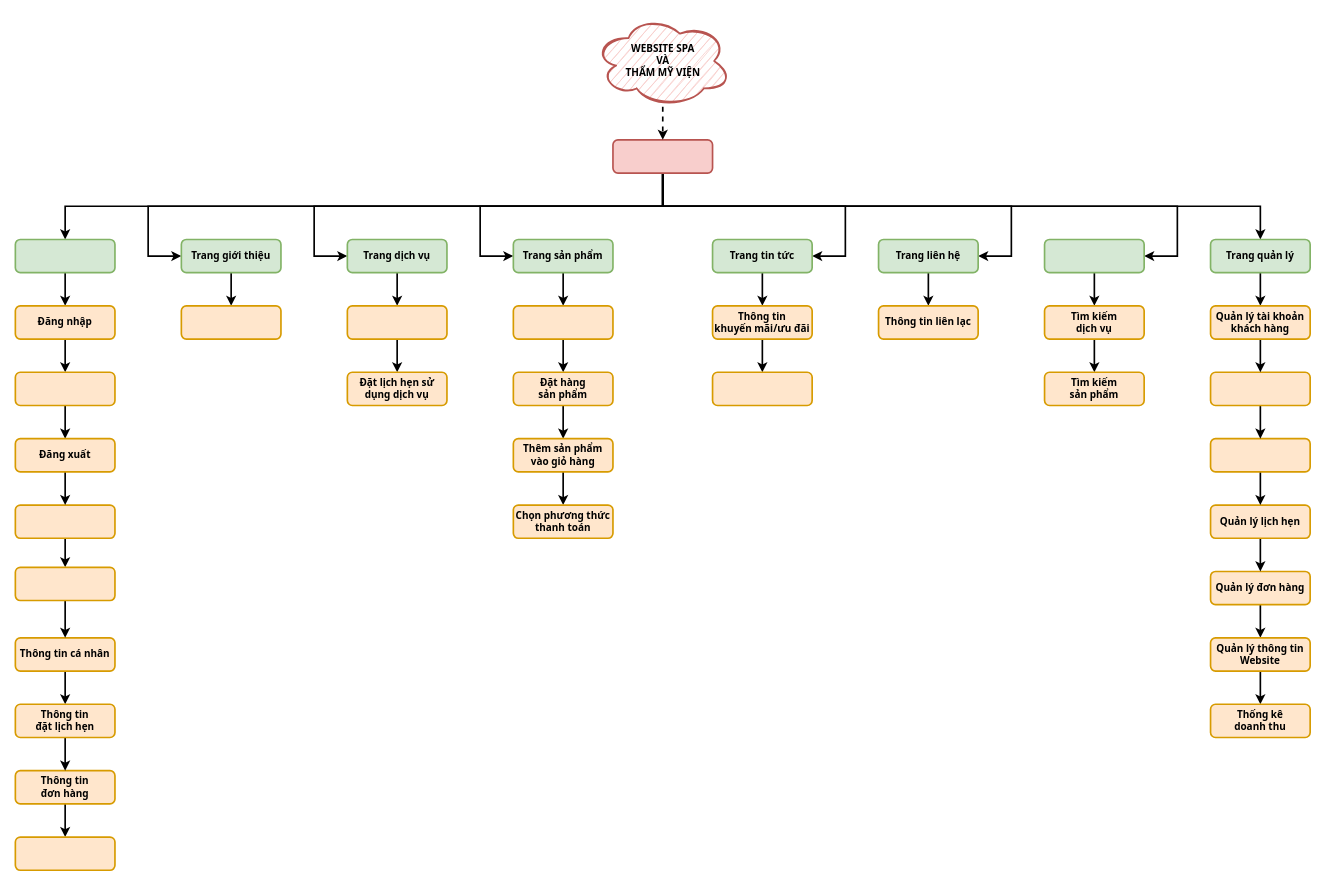
This 1325x885 diagram has some shape labels left out. The shapes that lost their labels are listed below. From the top down, each one's box as (x1, y1, x2, y2) in pixels, then its label:
(612, 139, 713, 173): Trang chủ Website
(14, 238, 115, 273): Trang tài khoản
(1043, 238, 1145, 273): Mục tìm kiếm
(180, 305, 281, 339): Thông tin về Website
(346, 305, 447, 339): Thông tin dịch vụ
(512, 305, 613, 339): Thông tin sản phẩm
(14, 371, 115, 406): Đăng ký
(711, 371, 813, 406): Thông tin tuyển dụng
(1209, 371, 1311, 406): Quản lý dịch vụ
(1209, 437, 1311, 472): Quản lý sản phẩm
(14, 504, 115, 539): Quên mật khẩu
(14, 566, 115, 601): Xác thực tài khoản
(14, 836, 115, 871): Thông tin giỏ hàng
